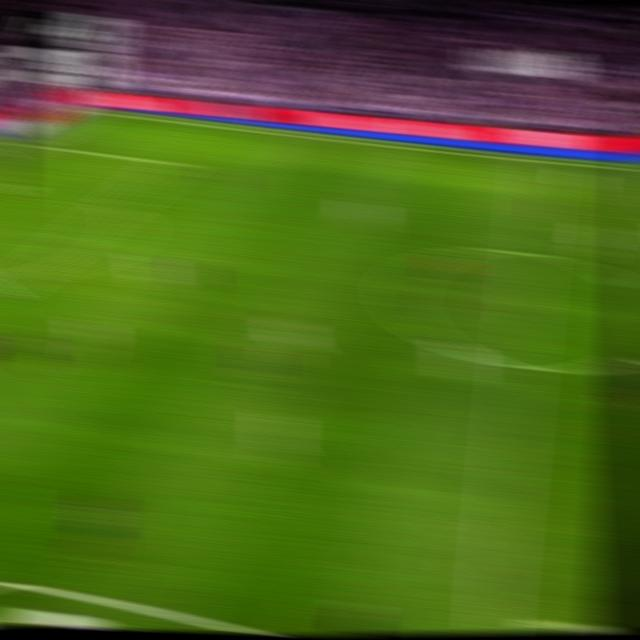bigarea_top_inner: (160, 155, 188, 171)
bigarea_top_outter: (15, 134, 43, 149)
bottom_arc_area_intersection: (13, 265, 43, 284)
corner: (77, 102, 109, 117)
halfcircle_bottom: (501, 349, 537, 381)
halfcircle_top: (513, 239, 548, 266)
midline_top_intersection: (525, 153, 555, 169)
top_arc_area_intersection: (103, 197, 134, 215)
